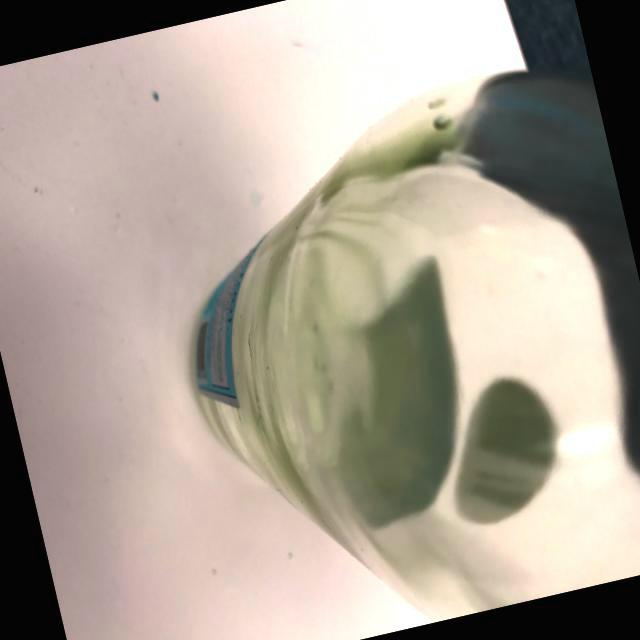glass: (116, 41, 640, 640)
